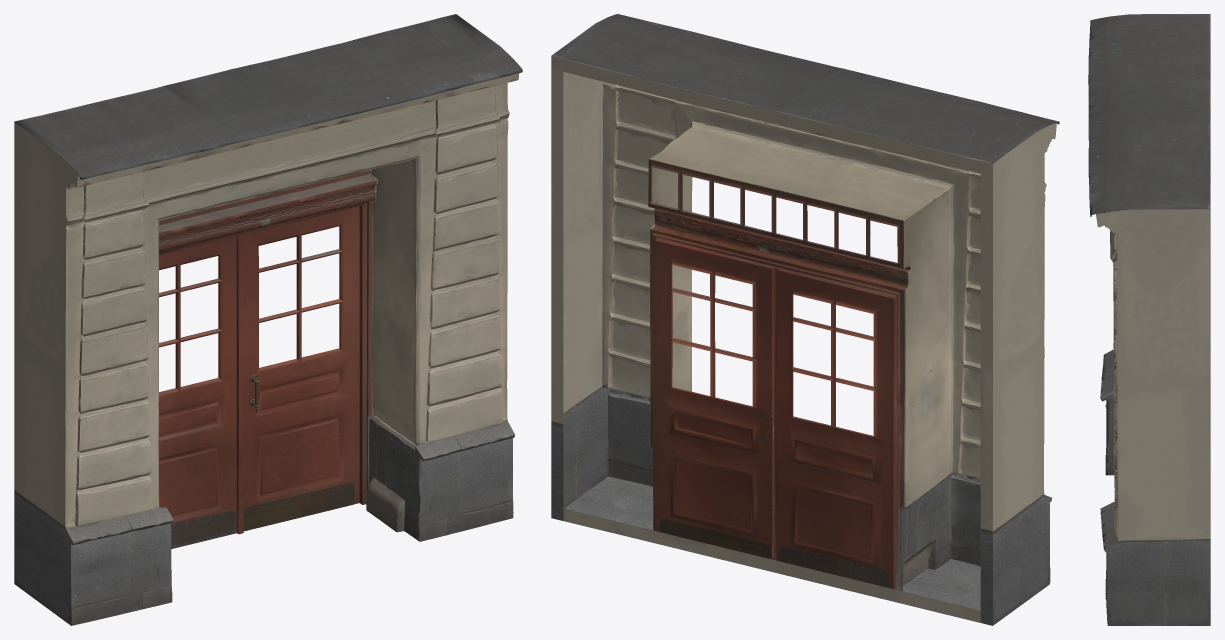
3 renders of one model, left to right at view 1: azimuth 30°, elevation 25°; view 2: azimuth 150°, elevation 25°; view 3: azimuth 270°, elevation 25°, orthographic. The views are drawn at different scales.
Visible parts, largest first — view 1: Aset_building__M_vb3hahodw_LOD0; view 2: Aset_building__M_vb3hahodw_LOD0; view 3: Aset_building__M_vb3hahodw_LOD0.
Boxes of the visible parts, x1,y1,x2,y2 form: Aset_building__M_vb3hahodw_LOD0: [14, 14, 522, 625]; Aset_building__M_vb3hahodw_LOD0: [551, 14, 1059, 625]; Aset_building__M_vb3hahodw_LOD0: [1088, 14, 1210, 625].
Size of the model in its own units: 4 by 4 by 1.07.
1 material, 1 textured.
